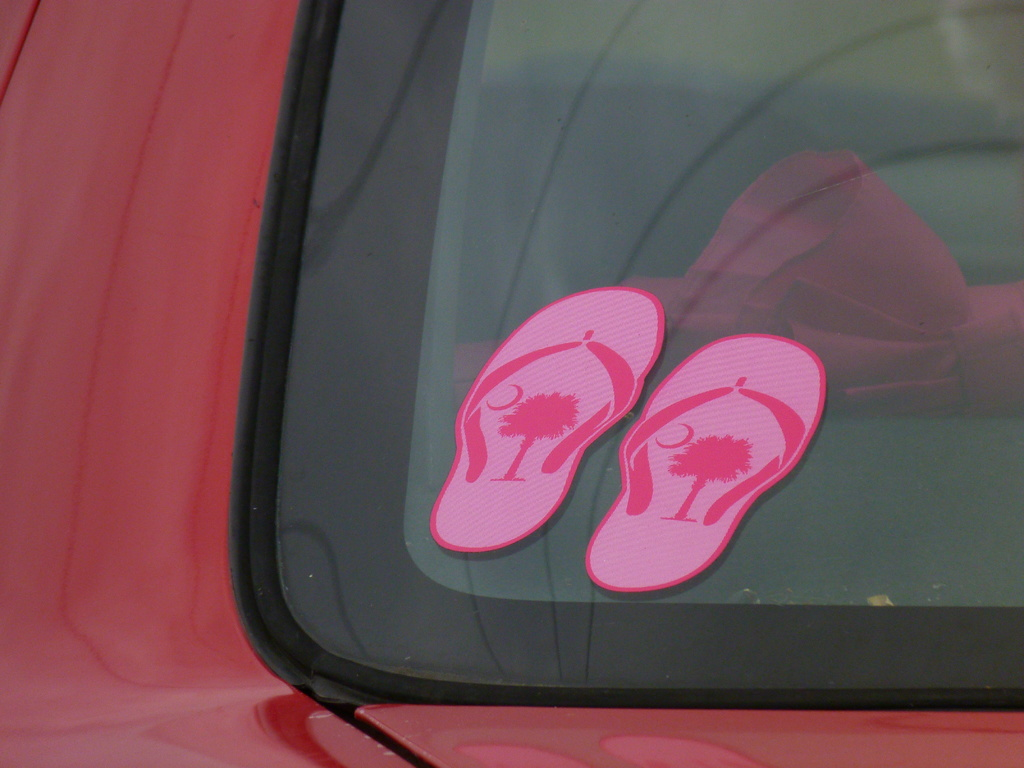Footwear: (580, 337, 824, 602), (434, 285, 663, 547)
